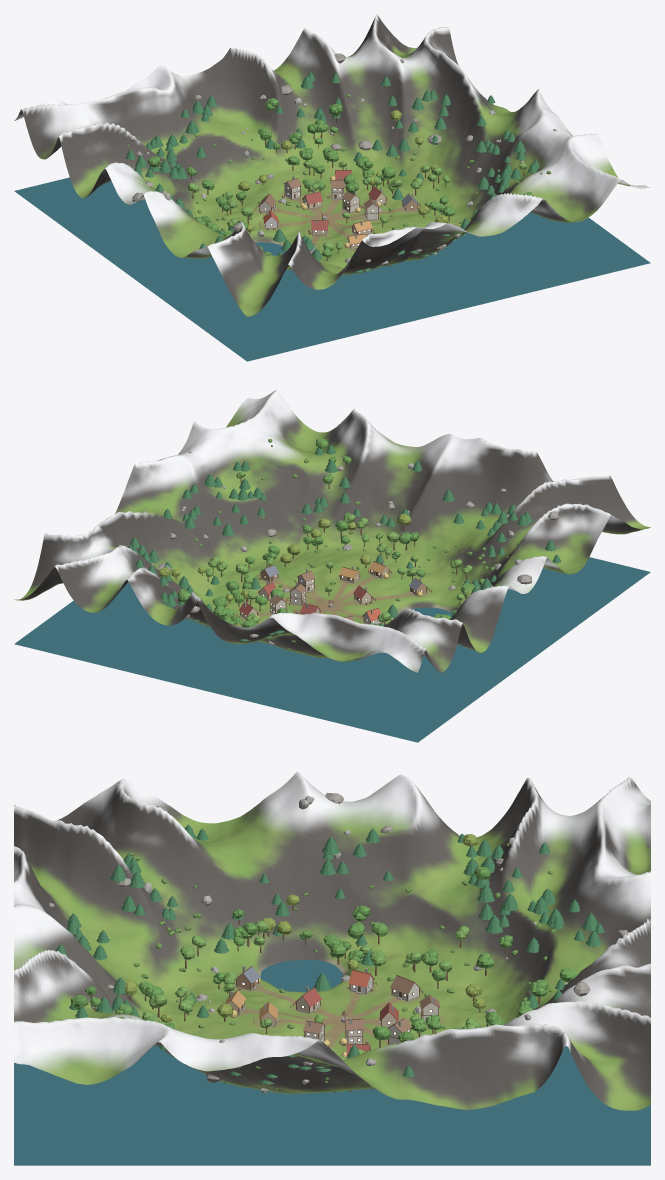
Rendered from village_seed7.fbx.
The picture shows the model from 3 angles, top to bottom: view 1: azimuth 30°, elevation 25°; view 2: azimuth 150°, elevation 25°; view 3: azimuth 270°, elevation 25°; orthographic projection. The views are drawn at different scales.
Visible parts, largest first — view 1: Terrain, Water; view 2: Terrain, Water; view 3: Terrain, Water, House_00.
Part boxes in pixels (x1,y1,x2,y2): Terrain: [14, 14, 649, 316]; Water: [14, 177, 650, 361]; Terrain: [14, 390, 650, 672]; Water: [14, 557, 650, 742]; Terrain: [14, 771, 650, 1110]; Water: [14, 960, 650, 1165]; House_00: [390, 975, 421, 1001].
Size of the model in its own units: 200 by 48.65 by 200.
